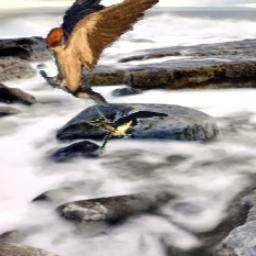Swallow: (39, 0, 164, 115), (73, 107, 171, 156)
